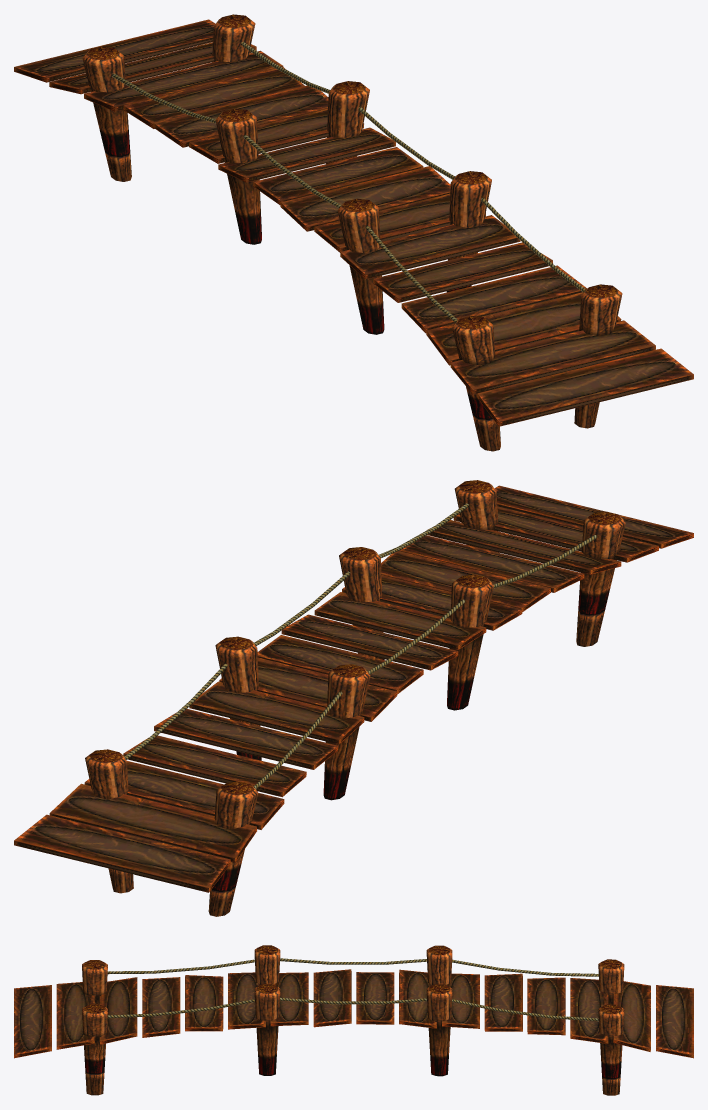
Rendered from BRIDGE_FINAL.fbx.
3 renders of one model, top to bottom at view 1: azimuth 30°, elevation 25°; view 2: azimuth 150°, elevation 25°; view 3: azimuth 270°, elevation 25°, orthographic. The views are drawn at different scales.
Parts seen in each view (by area): view 1: BRIDGE_FINAL; view 2: BRIDGE_FINAL; view 3: BRIDGE_FINAL.
Boxes of the visible parts, box(x1,y1,x2,y2) form: BRIDGE_FINAL: box(14, 14, 693, 451); BRIDGE_FINAL: box(14, 480, 693, 916); BRIDGE_FINAL: box(14, 945, 693, 1095).
Bounding box in the file's own units: 33207 × 24910 × 143123.
4 materials, 4 textured.
